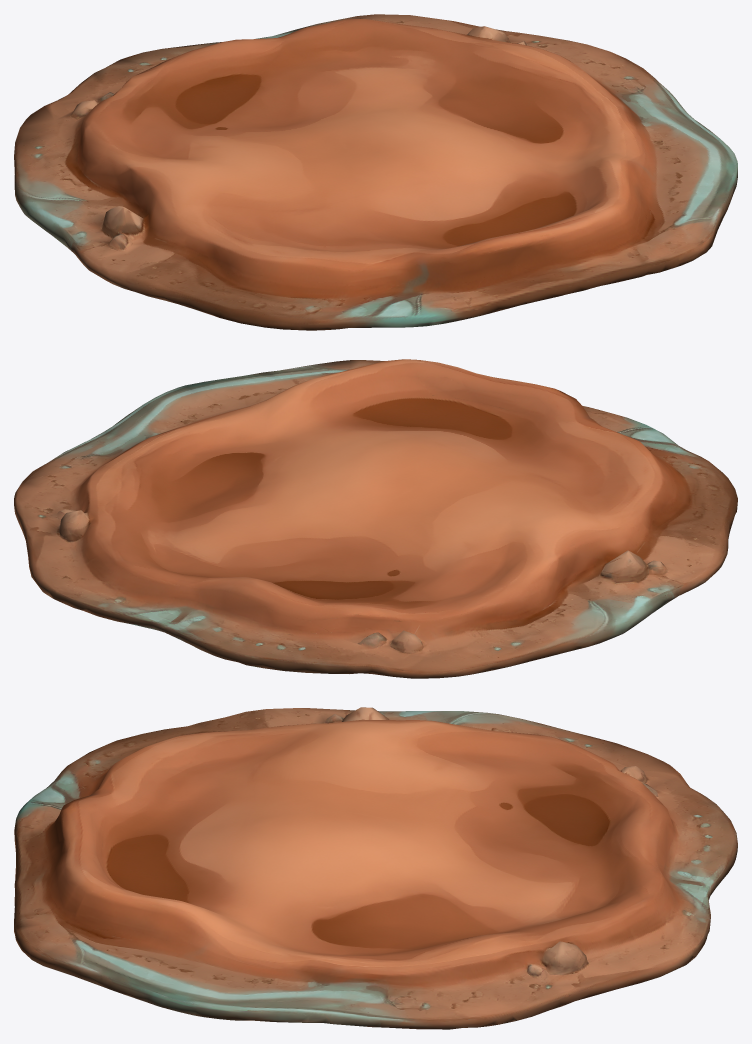
The picture shows the model from 3 angles, top to bottom: view 1: azimuth 30°, elevation 25°; view 2: azimuth 150°, elevation 25°; view 3: azimuth 270°, elevation 25°; orthographic projection. The views are drawn at different scales.
Size of the model in its own units: 2 by 0.1512 by 1.94.
Materials: 1 (1 with a texture image).
